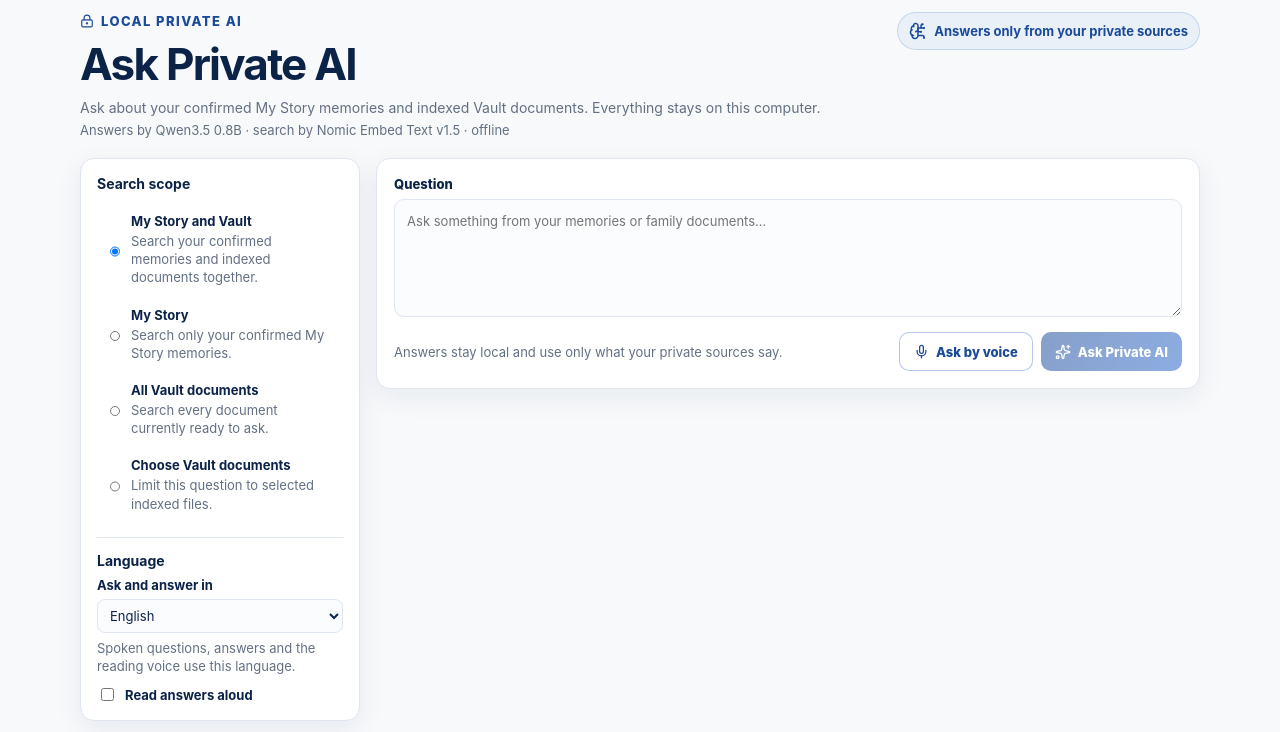
it: AskVault › asks My Story and the Vault together by default and labels both kinds of source
Expected: the radio button labelled "My Story and Vault" is checked, [110,216,120,287]
Type "Tell me about grandmother" into the text box labelled "Question" at (788, 258), box [394,199,1182,317]
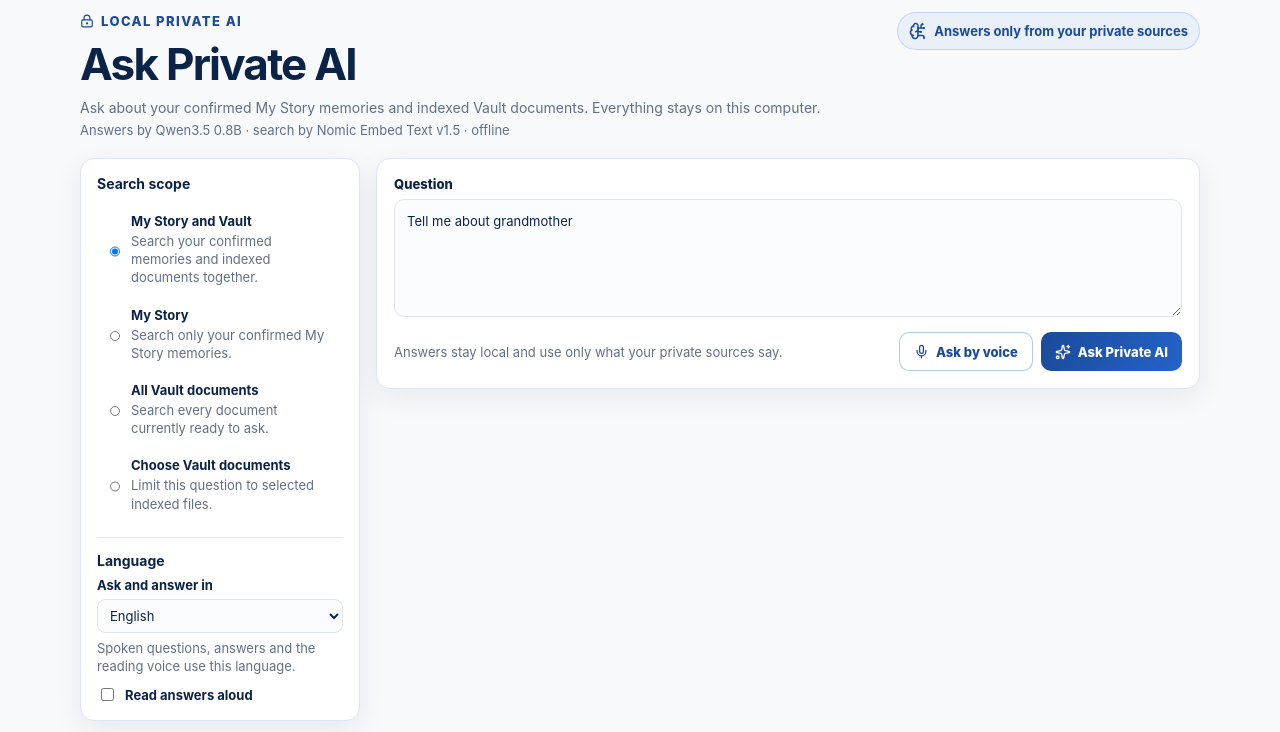
Click the button "Ask Private AI" at (1111, 352), box [1041,332,1182,371]
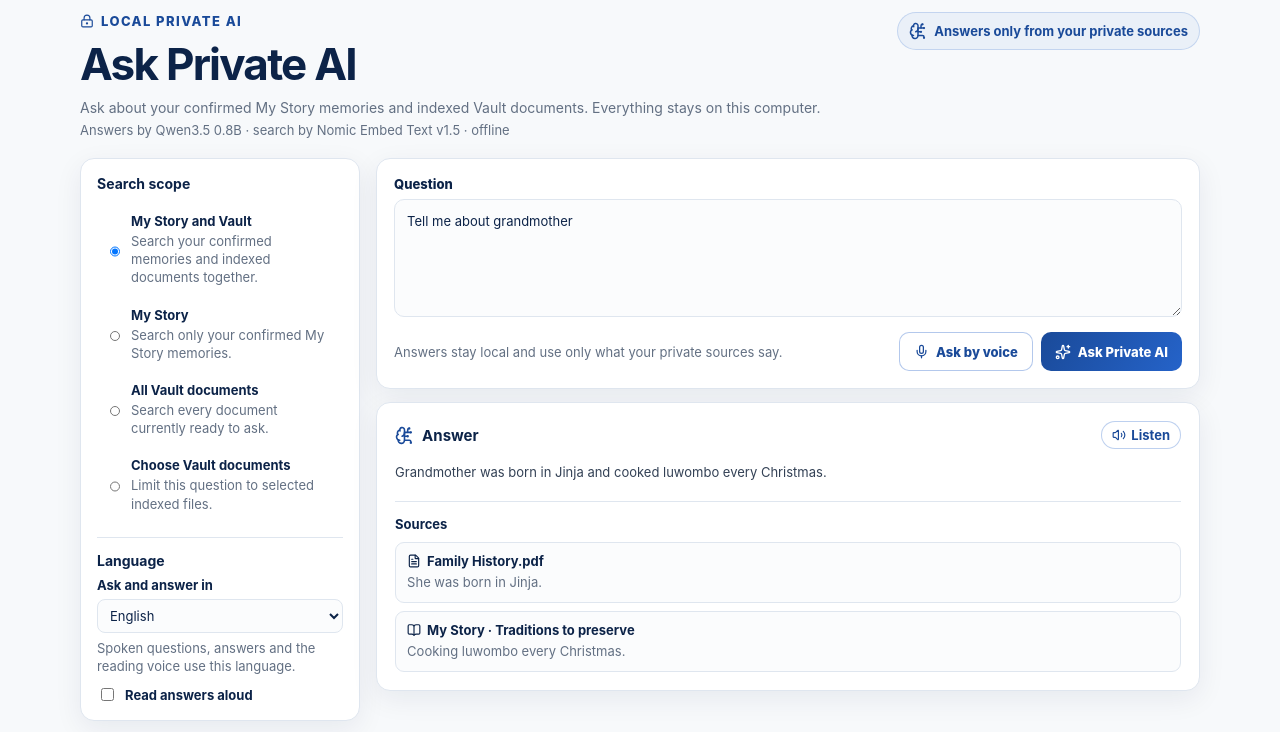
Result: the text "Grandmother was born in Jinja and cooked luwombo every Christmas." is shown at [395,464,827,480]
Result: the text "Family History.pdf" is shown at [407,553,544,569]
Result: the text "My Story · Traditions to preserve" is shown at [407,622,635,638]
